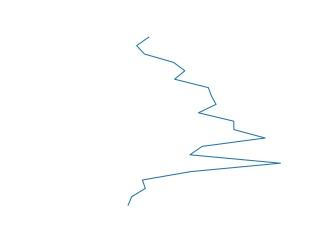floodSwamp: (124, 34, 284, 208)
